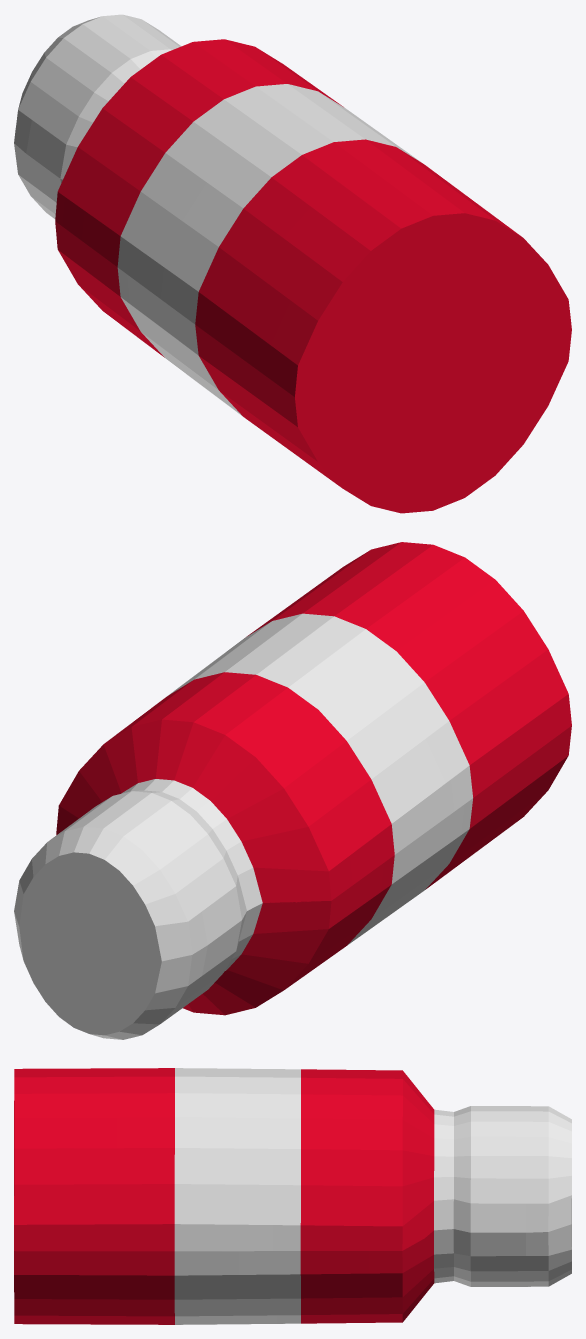
File: syrup.fbx
3 views of the same model, one above another, from view 1: azimuth 30°, elevation 25°; view 2: azimuth 150°, elevation 25°; view 3: azimuth 270°, elevation 25° (orthographic). The views are drawn at different scales.
Visible parts, largest first — view 1: surup; view 2: surup; view 3: surup.
Part boxes in pixels (x1=…): surup: x1=14, y1=14, x2=571, y2=513; surup: x1=14, y1=542, x2=571, y2=1039; surup: x1=14, y1=1068, x2=571, y2=1324.
Bounding box in the file's own units: 57.18 × 58.4 × 123.
